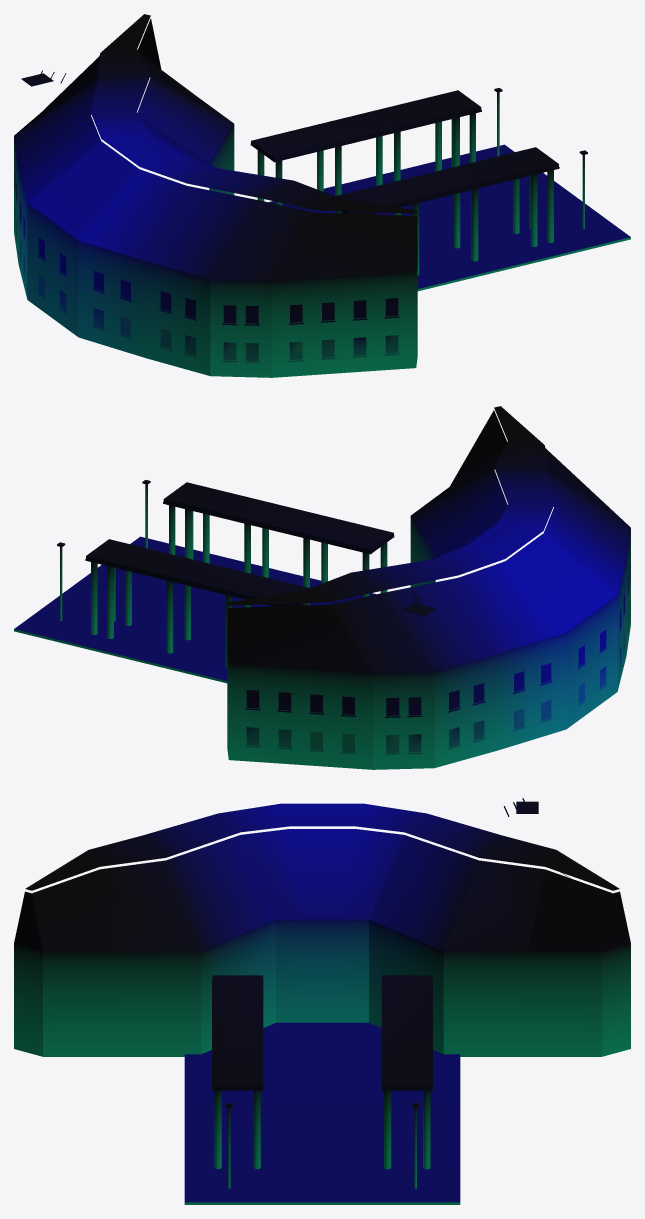
Rendered from s_quetragon_damaged.glb.
3 renders of one model, top to bottom at view 1: azimuth 30°, elevation 25°; view 2: azimuth 150°, elevation 25°; view 3: azimuth 270°, elevation 25°, orthographic. The views are drawn at different scales.
Visible parts, largest first — view 1: lod0; view 2: lod0; view 3: lod0.
Part boxes in pixels (left/top/right/bottom): lod0: left=14, top=14, right=630, bottom=377; lod0: left=14, top=406, right=630, bottom=769; lod0: left=14, top=798, right=630, bottom=1204.
Size of what is drawn, in the model's own units: 37.26 by 11.14 by 35.4.
